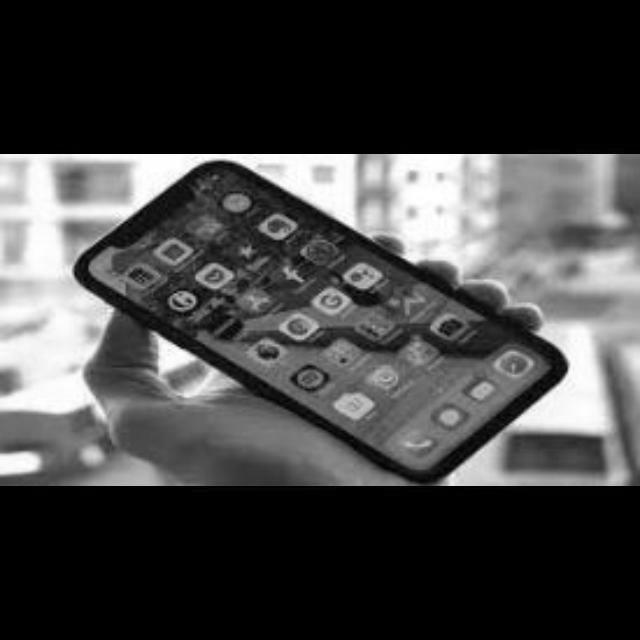fake: (63, 152, 632, 470)
